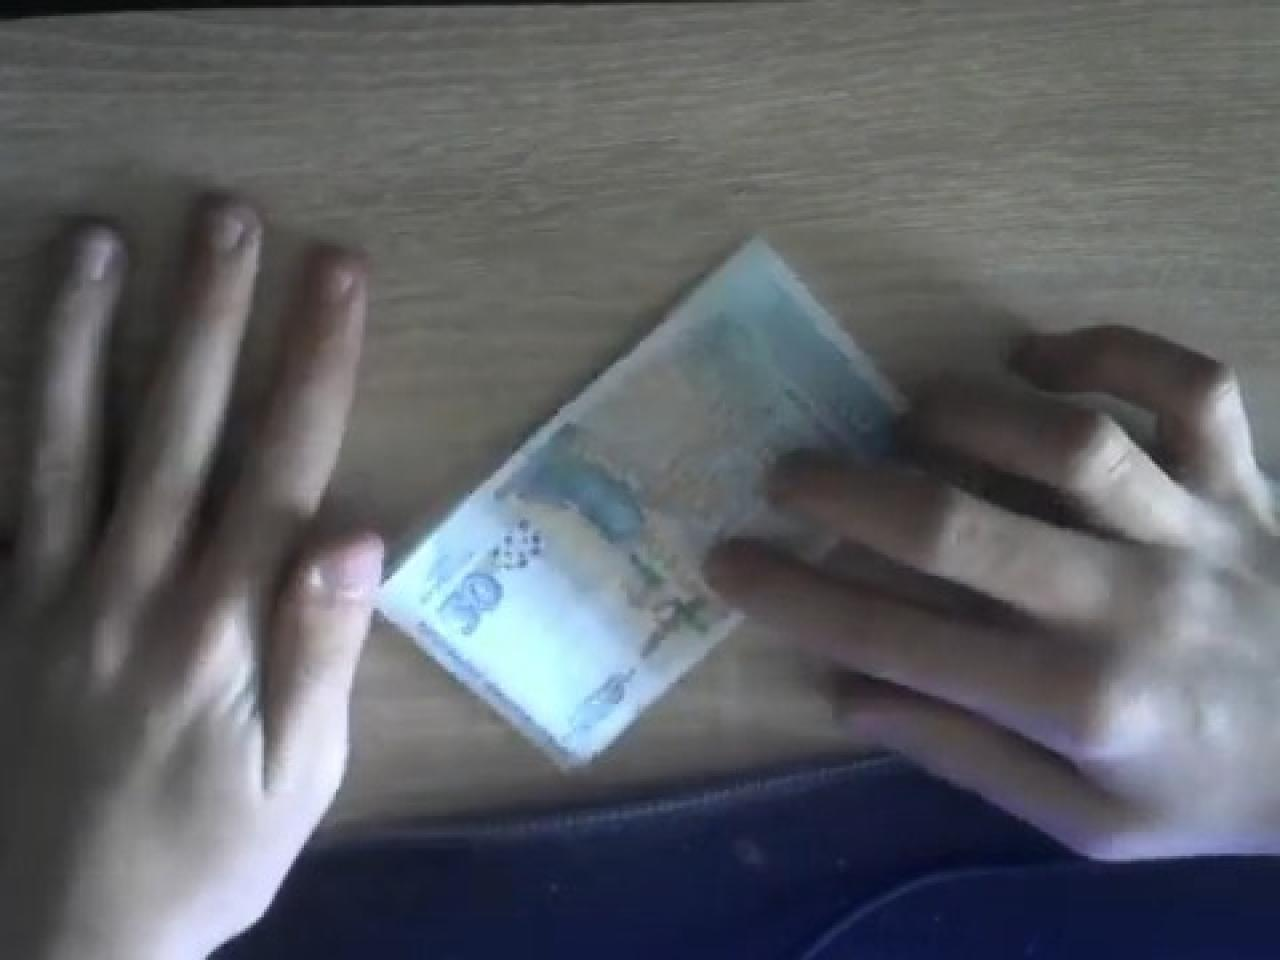20leva: (371, 235, 920, 776)
